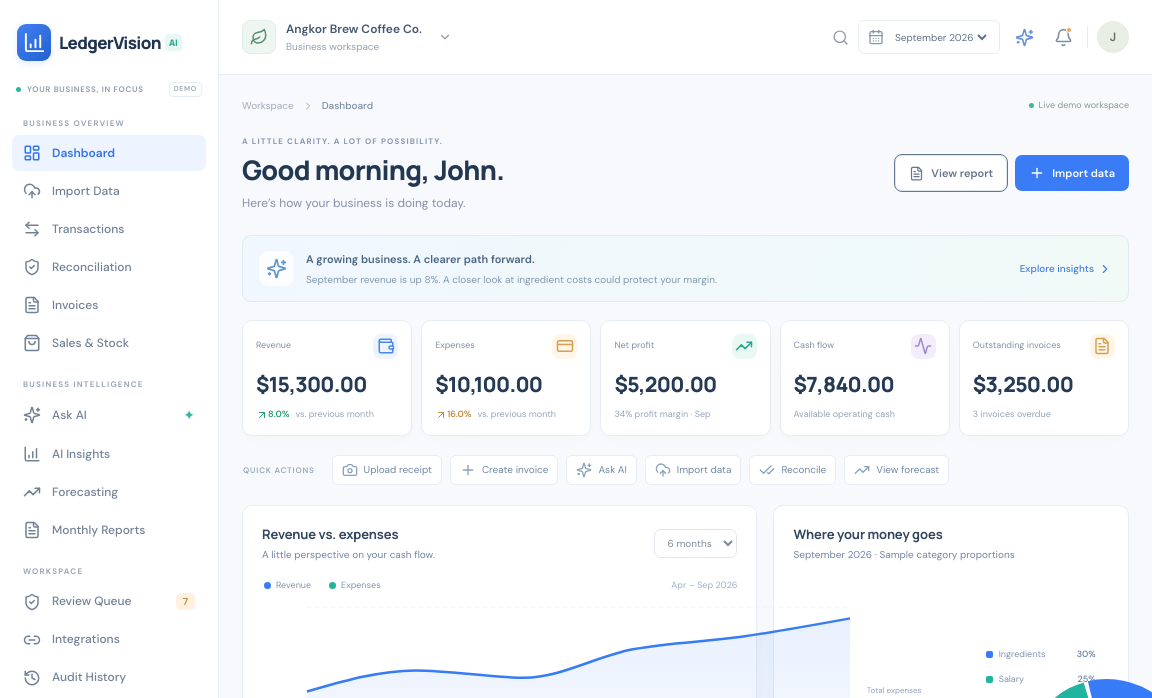
Test: stock adjustment resolves a low-stock alert and records the change
The width and height of the screenshot is (1152, 698).
Click the button "Sales & Stock": (109, 343) [12,325,206,361]
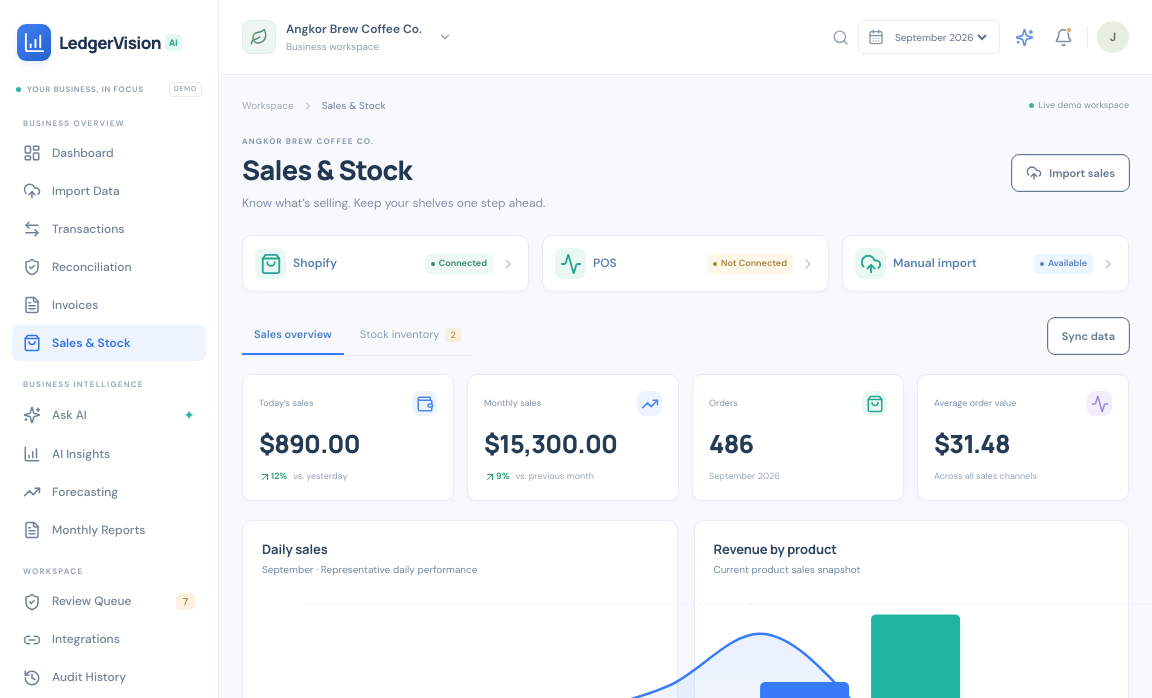
Click the button "Stock inventory2": (410, 336) [348,316,473,355]
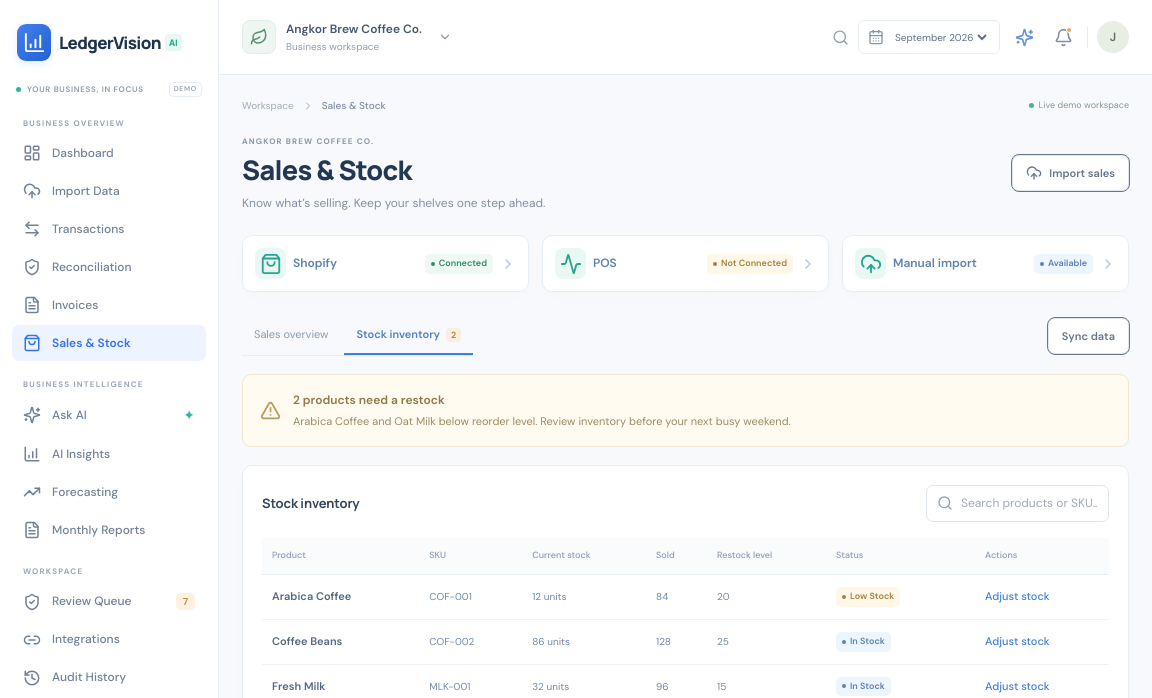
Click the button "Adjust stock" in the row of "COF-001": (1017, 597) [985,588,1050,605]
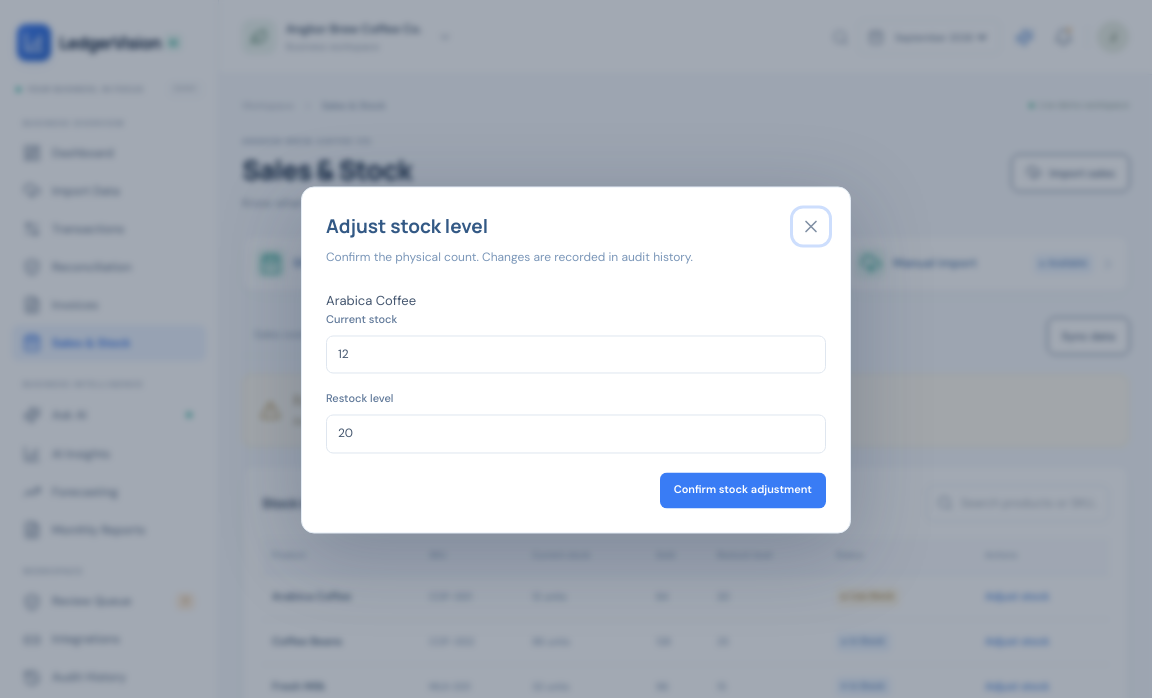
Replace the text in the number field labelled "Current stock" with "40": (576, 355) [326,335,826,374]
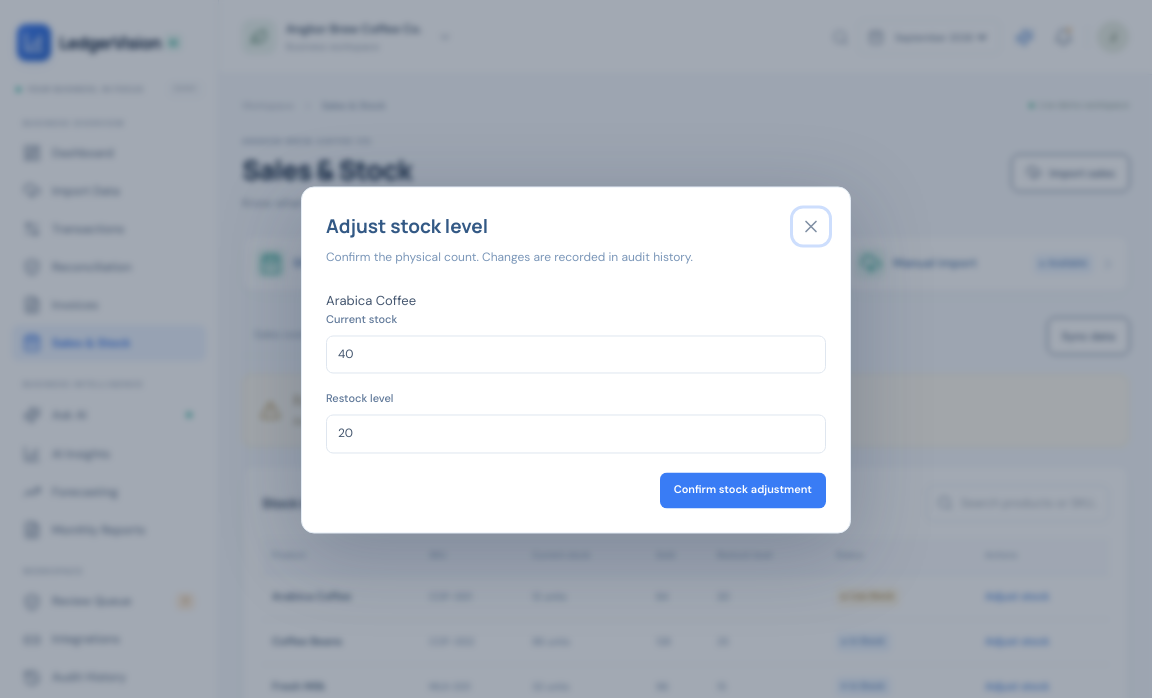
Click the button "Confirm stock adjustment": (743, 490) [660,472,826,508]
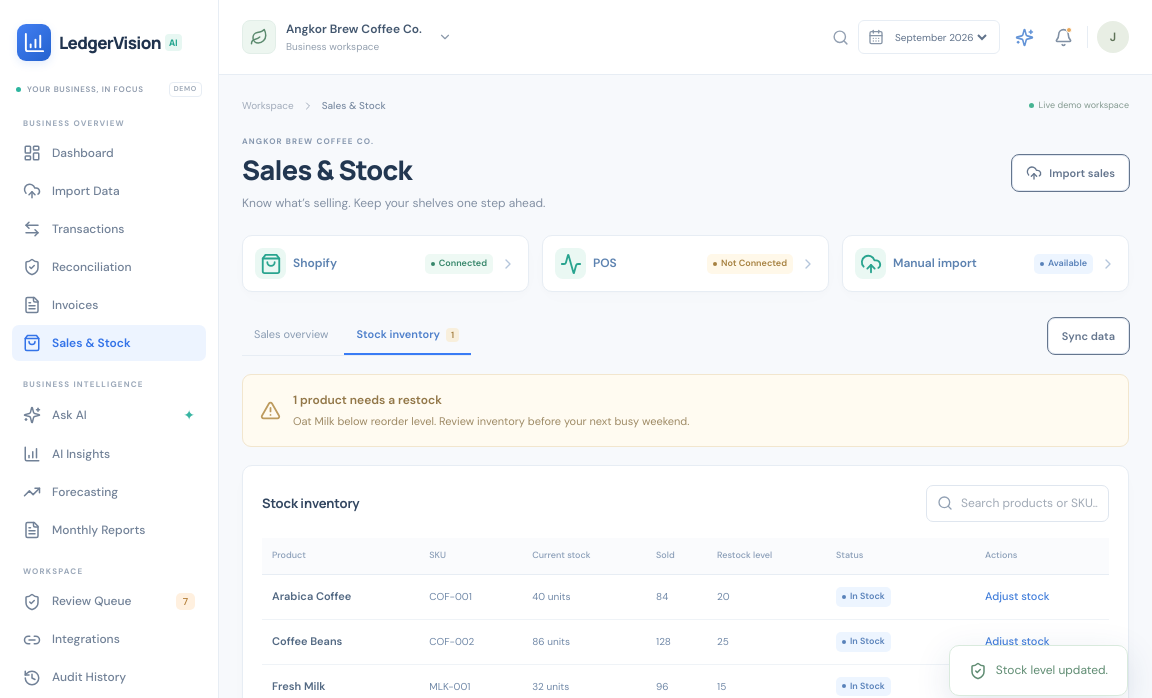
Now the text "Arabica Coffee" shows "In Stock", box [850,590,885,602]
Now the text "1 product needs a restock" is shown, box [293,392,442,408]
Click the button "Audit History": (109, 678) [12,660,206,696]
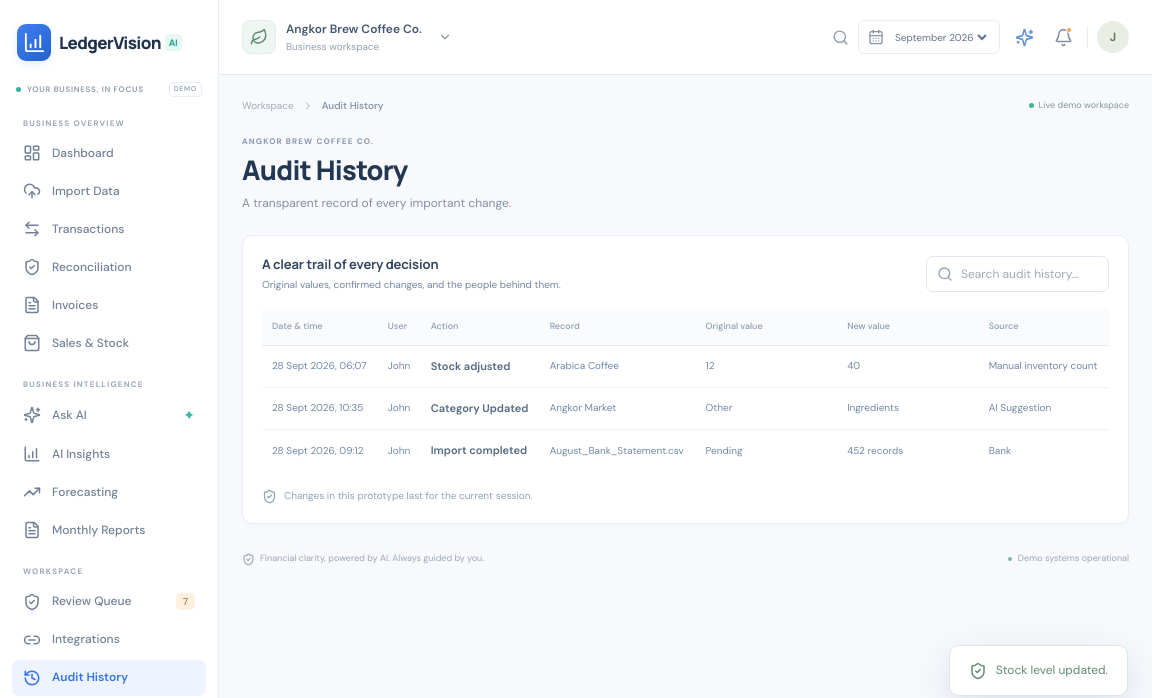
Now the text "Stock adjusted" is shown, box [431,359,510,373]
